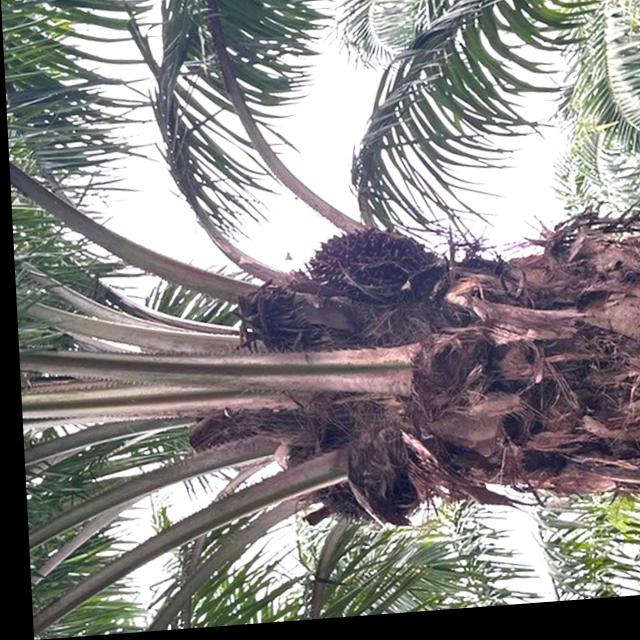ripe: (306, 230, 422, 296)
